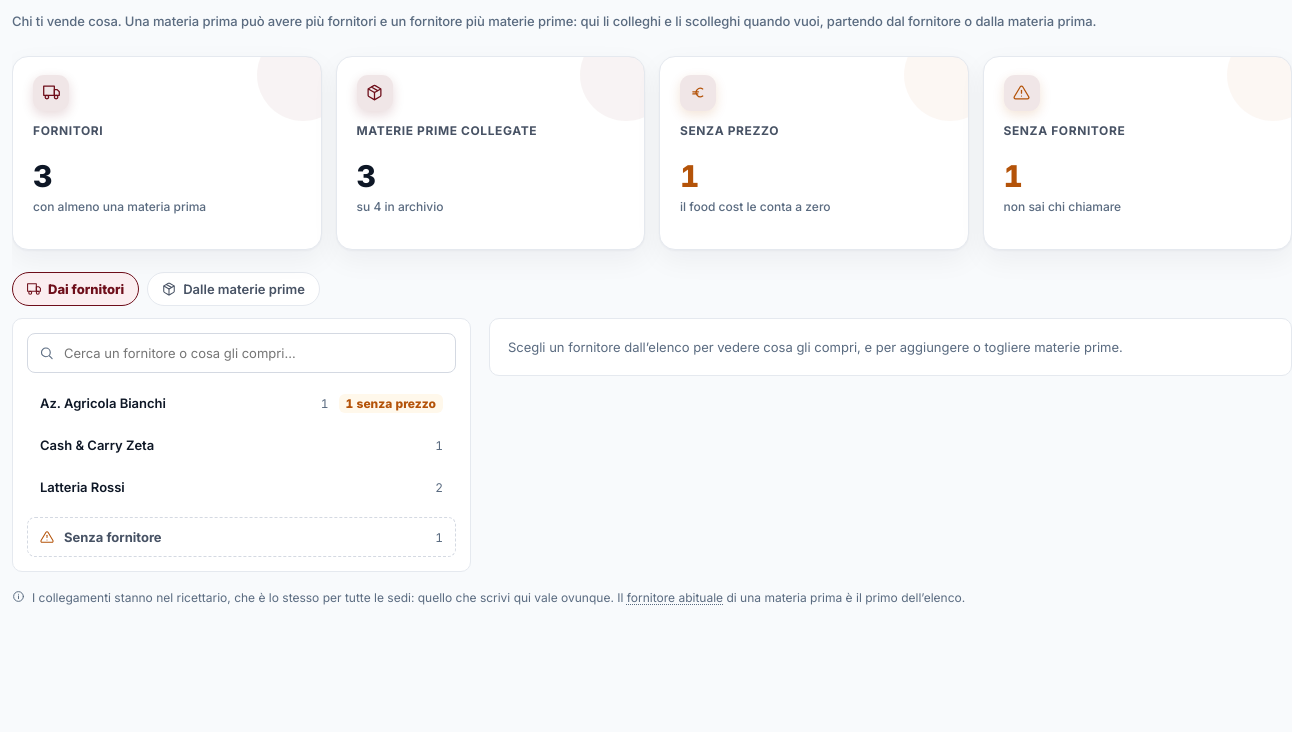
Test: i due versi della stessa relazione › partendo dalla materia prima si vede chi te la vende
The width and height of the screenshot is (1292, 732).
Click the button "Dalle materie prime": click(234, 289) [147,272,320,306]
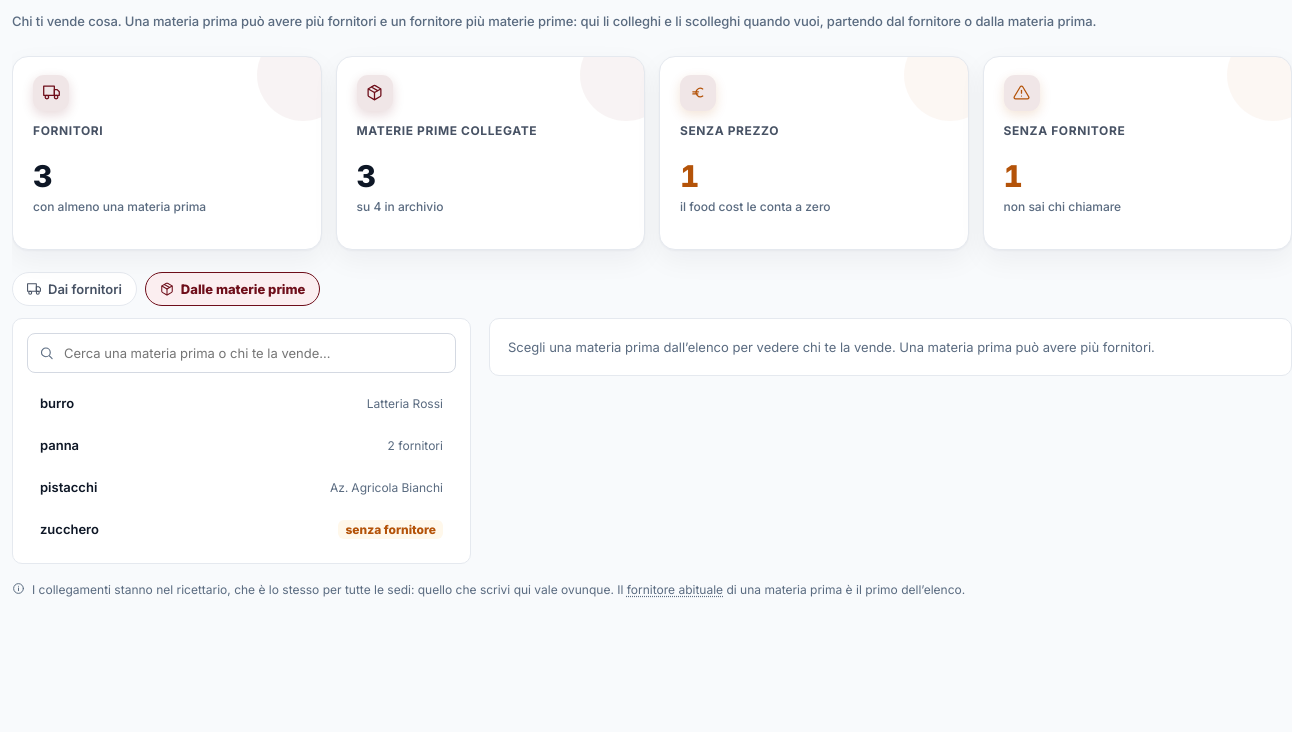
Click the button "panna 2 fornitori": click(60, 445) [27,425,456,465]
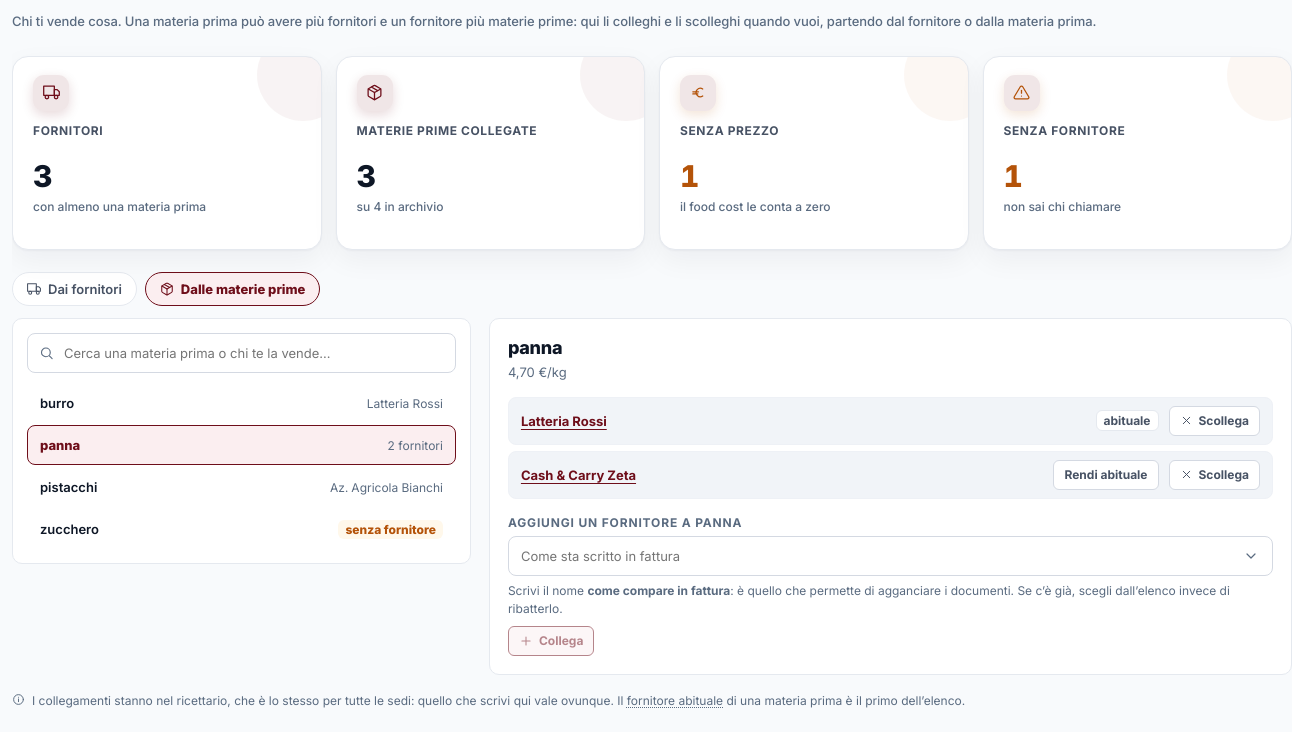
Expected: the heading "panna" is shown, [508,337,562,358]
Expected: the button with aria-label "Scollega Latteria Rossi da panna" is shown, [1168,406,1260,436]
Expected: the button with aria-label "Scollega Cash & Carry Zeta da panna" is shown, [1168,460,1260,490]
